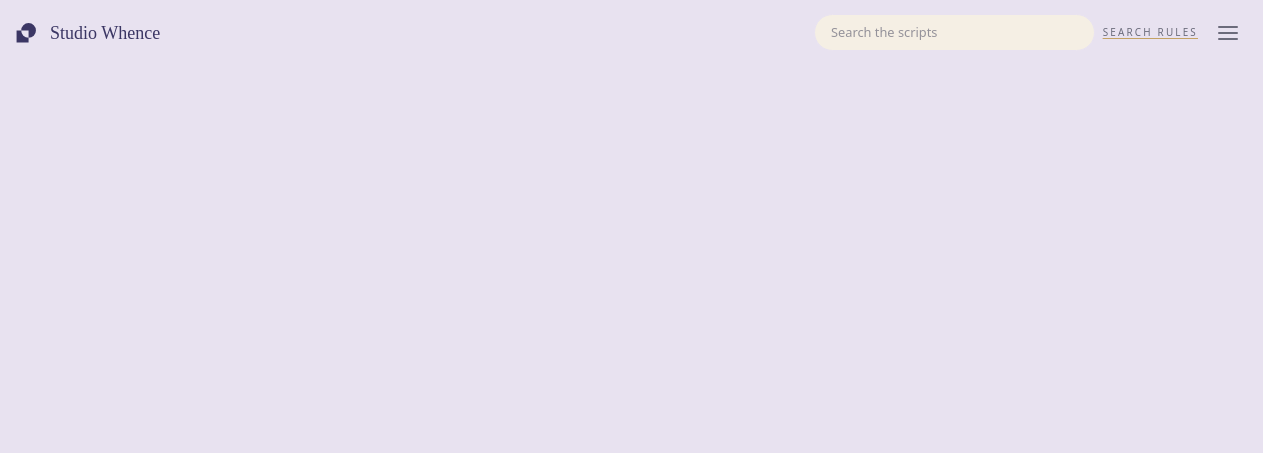
Scenario: Topbar — open menu contents › renders only non-line entries when content is null — no crash
The image size is (1263, 453).
Click the button named "open menu".
click(1228, 33)  # box [1210,15,1246,51]
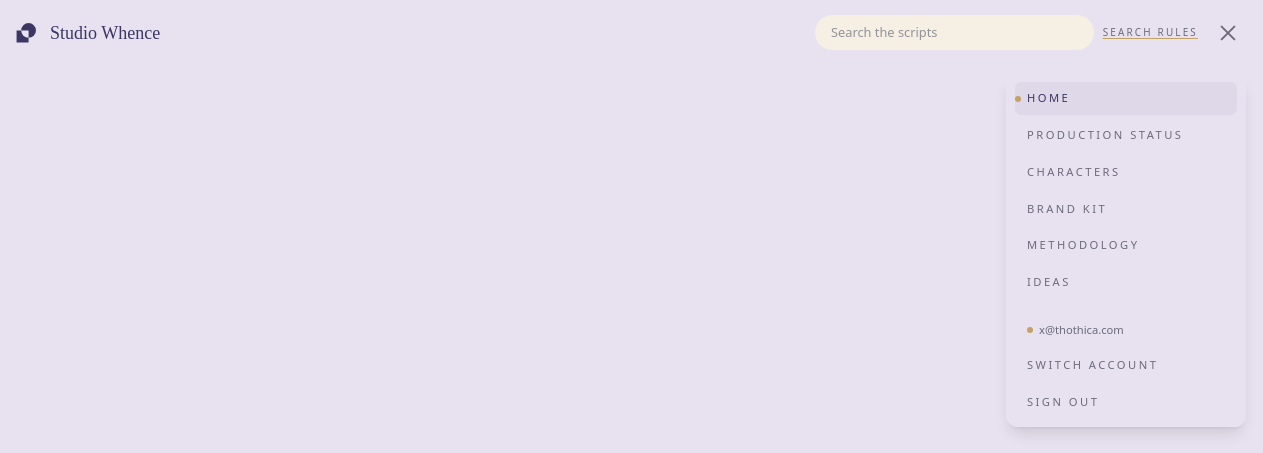
expect the link "Home" is shown: met, box [1015,82,1237,115]
